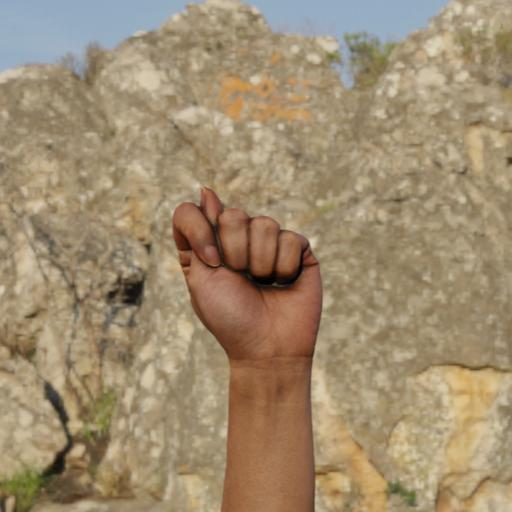T: (161, 180, 338, 436)
